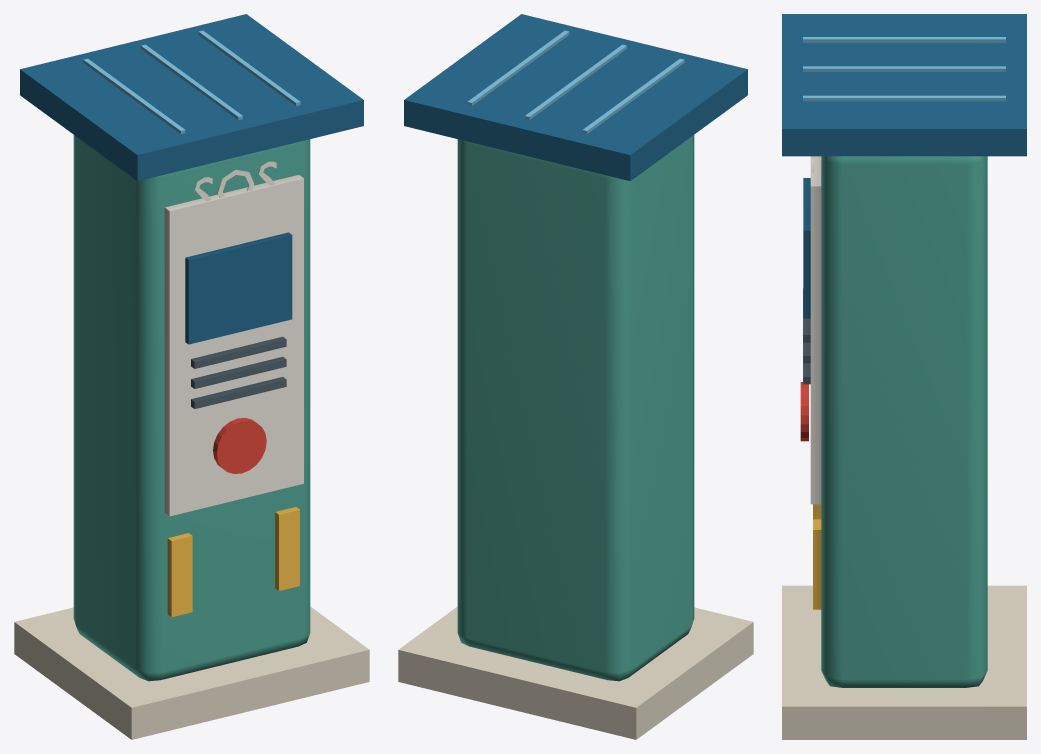
File: assistance-kiosk.glb
3 views of the same model, side by side, from view 1: azimuth 30°, elevation 25°; view 2: azimuth 150°, elevation 25°; view 3: azimuth 270°, elevation 25° (orthographic). The views are drawn at different scales.
Parts seen in each view (by area): view 1: emergency kiosk, video screen, kiosk fascia, assistance plinth, night reflector, speaker slot, solar cell seam, help button; view 2: emergency kiosk, video screen, assistance plinth, solar cell seam; view 3: emergency kiosk, video screen, assistance plinth, kiosk fascia, solar cell seam, night reflector, speaker slot, help button.
Part boxes in pixels (left/top/right/bottom): emergency kiosk: left=73, top=135, right=310, bottom=681; video screen: left=20, top=14, right=363, bottom=344; kiosk fascia: left=164, top=161, right=303, bottom=516; assistance plinth: left=14, top=606, right=369, bottom=739; night reflector: left=167, top=507, right=299, bottom=617; speaker slot: left=191, top=336, right=286, bottom=408; solar cell seam: left=83, top=30, right=300, bottom=133; help button: left=213, top=418, right=266, bottom=473; emergency kiosk: left=457, top=135, right=694, bottom=681; video screen: left=404, top=14, right=747, bottom=181; assistance plinth: left=398, top=606, right=753, bottom=739; solar cell seam: left=467, top=30, right=684, bottom=133; emergency kiosk: left=821, top=156, right=987, bottom=687; video screen: left=782, top=14, right=1026, bottom=318; assistance plinth: left=782, top=585, right=1026, bottom=739; kiosk fascia: left=810, top=156, right=821, bottom=504; solar cell seam: left=803, top=37, right=1005, bottom=101; night reflector: left=813, top=504, right=821, bottom=609; speaker slot: left=803, top=288, right=810, bottom=384; help button: left=800, top=382, right=808, bottom=441.
Bounding box in the file's own units: 0.62 × 1.46 × 0.53.
